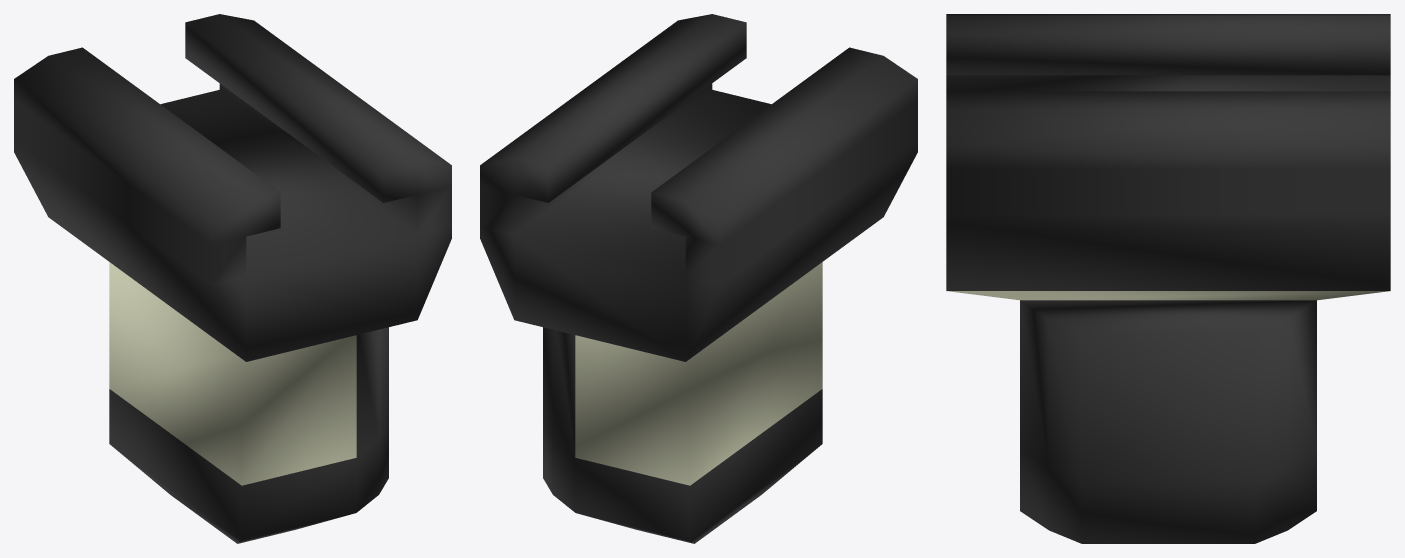
File: Crane_Winch.fbx
3 views of the same model, side by side, from view 1: azimuth 30°, elevation 25°; view 2: azimuth 150°, elevation 25°; view 3: azimuth 270°, elevation 25° (orthographic). The views are drawn at different scales.
Parts seen in each view (by area): view 1: Crane_Winch; view 2: Crane_Winch; view 3: Crane_Winch.
Boxes of the visible parts, x1,y1,x2,y2 form: Crane_Winch: (14, 14, 451, 543); Crane_Winch: (480, 14, 917, 543); Crane_Winch: (946, 14, 1390, 543).
Size of the model in its own units: 42.67 by 68.83 by 60.96.
